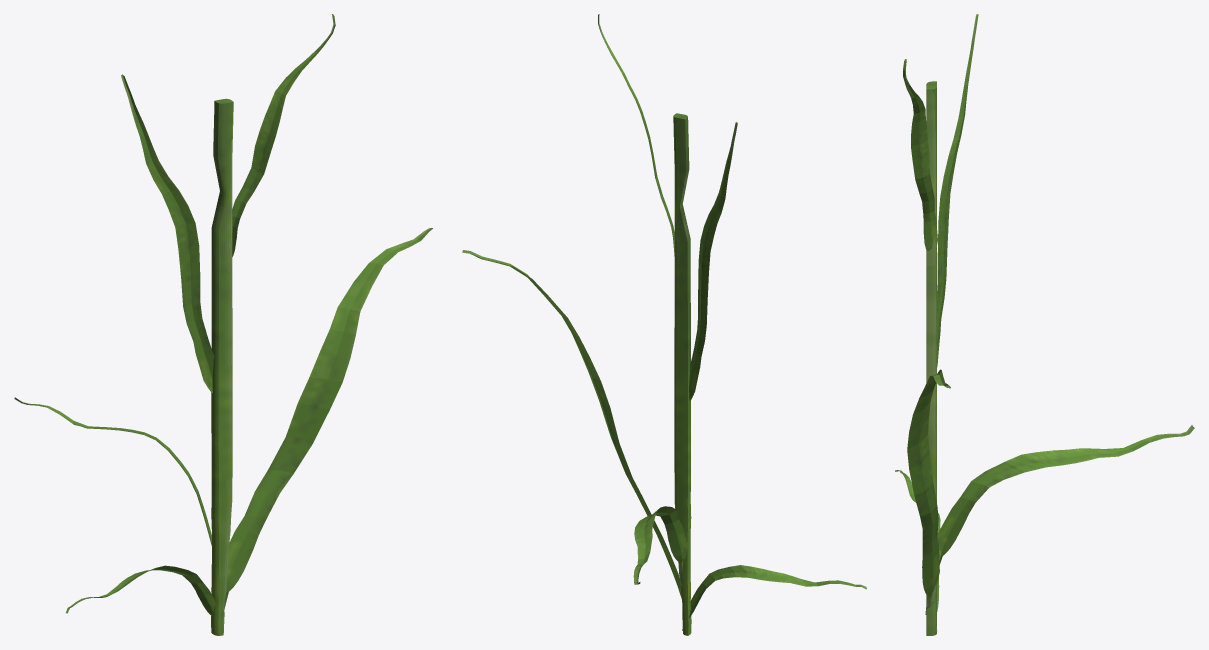
3 views of the same model, side by side, from view 1: azimuth 30°, elevation 25°; view 2: azimuth 150°, elevation 25°; view 3: azimuth 270°, elevation 25° (orthographic). The views are drawn at different scales.
Visible parts, largest first — view 1: g1; view 2: g1; view 3: g1.
Boxes of the visible parts, bbox=[...] form: g1: bbox=[14, 14, 432, 635]; g1: bbox=[462, 14, 866, 635]; g1: bbox=[895, 14, 1194, 635].
Bounding box in the file's own units: 0.4166 × 0.6135 × 0.2658.
Materials: 1 (1 with a texture image).
